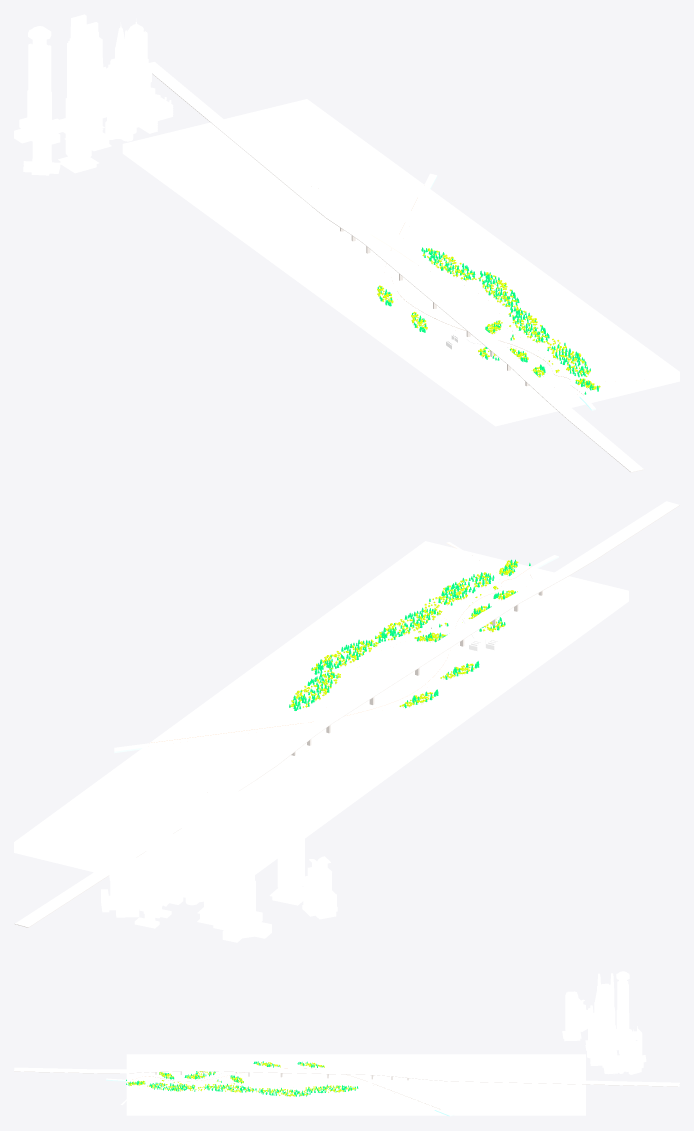
Rendered from plainModelWithoutBG.glb.
3 views of the same model, one above another, from view 1: azimuth 30°, elevation 25°; view 2: azimuth 150°, elevation 25°; view 3: azimuth 270°, elevation 25° (orthographic). The views are drawn at different scales.
Visible parts, largest first — view 1: plane, road, building_03, building_07, building_08, building_02, building_01, river, building_06, path; view 2: plane, road, building_03, building_07, building_02, building_01, building_08, river, building_05, building_06, building_04, path; view 3: plane, road, building_02, building_07, building_08, building_05, river, building_01, path, building_03, building_06.
Part boxes in pixels (x1,y1,x2,y2): plane: (122, 99, 679, 426); road: (148, 62, 643, 472); building_03: (57, 14, 111, 151); building_07: (14, 26, 64, 144); building_08: (105, 22, 136, 141); building_02: (125, 18, 173, 133); building_01: (58, 90, 98, 173); river: (384, 173, 595, 410); building_06: (23, 121, 60, 175); path: (312, 185, 667, 381); plane: (14, 541, 628, 887); road: (15, 501, 679, 927); building_03: (197, 775, 243, 925); building_07: (213, 810, 271, 942); building_02: (137, 785, 183, 911); building_01: (269, 814, 304, 905); building_08: (180, 773, 204, 905); river: (114, 555, 558, 753); building_05: (101, 853, 143, 917); building_06: (302, 856, 337, 919); building_04: (134, 854, 171, 928); path: (206, 542, 499, 792); plane: (126, 1054, 585, 1115); road: (14, 1066, 679, 1086); building_02: (590, 1001, 619, 1074); building_07: (616, 971, 637, 1039); building_08: (587, 988, 604, 1058); building_05: (613, 1038, 643, 1074); river: (106, 1068, 454, 1116); building_01: (562, 991, 581, 1041); path: (120, 1081, 474, 1104); building_03: (585, 973, 623, 1050); building_06: (578, 998, 587, 1031).
Size of what is drawn, in the model's own units: 16.67 by 6.55 by 50.73.
